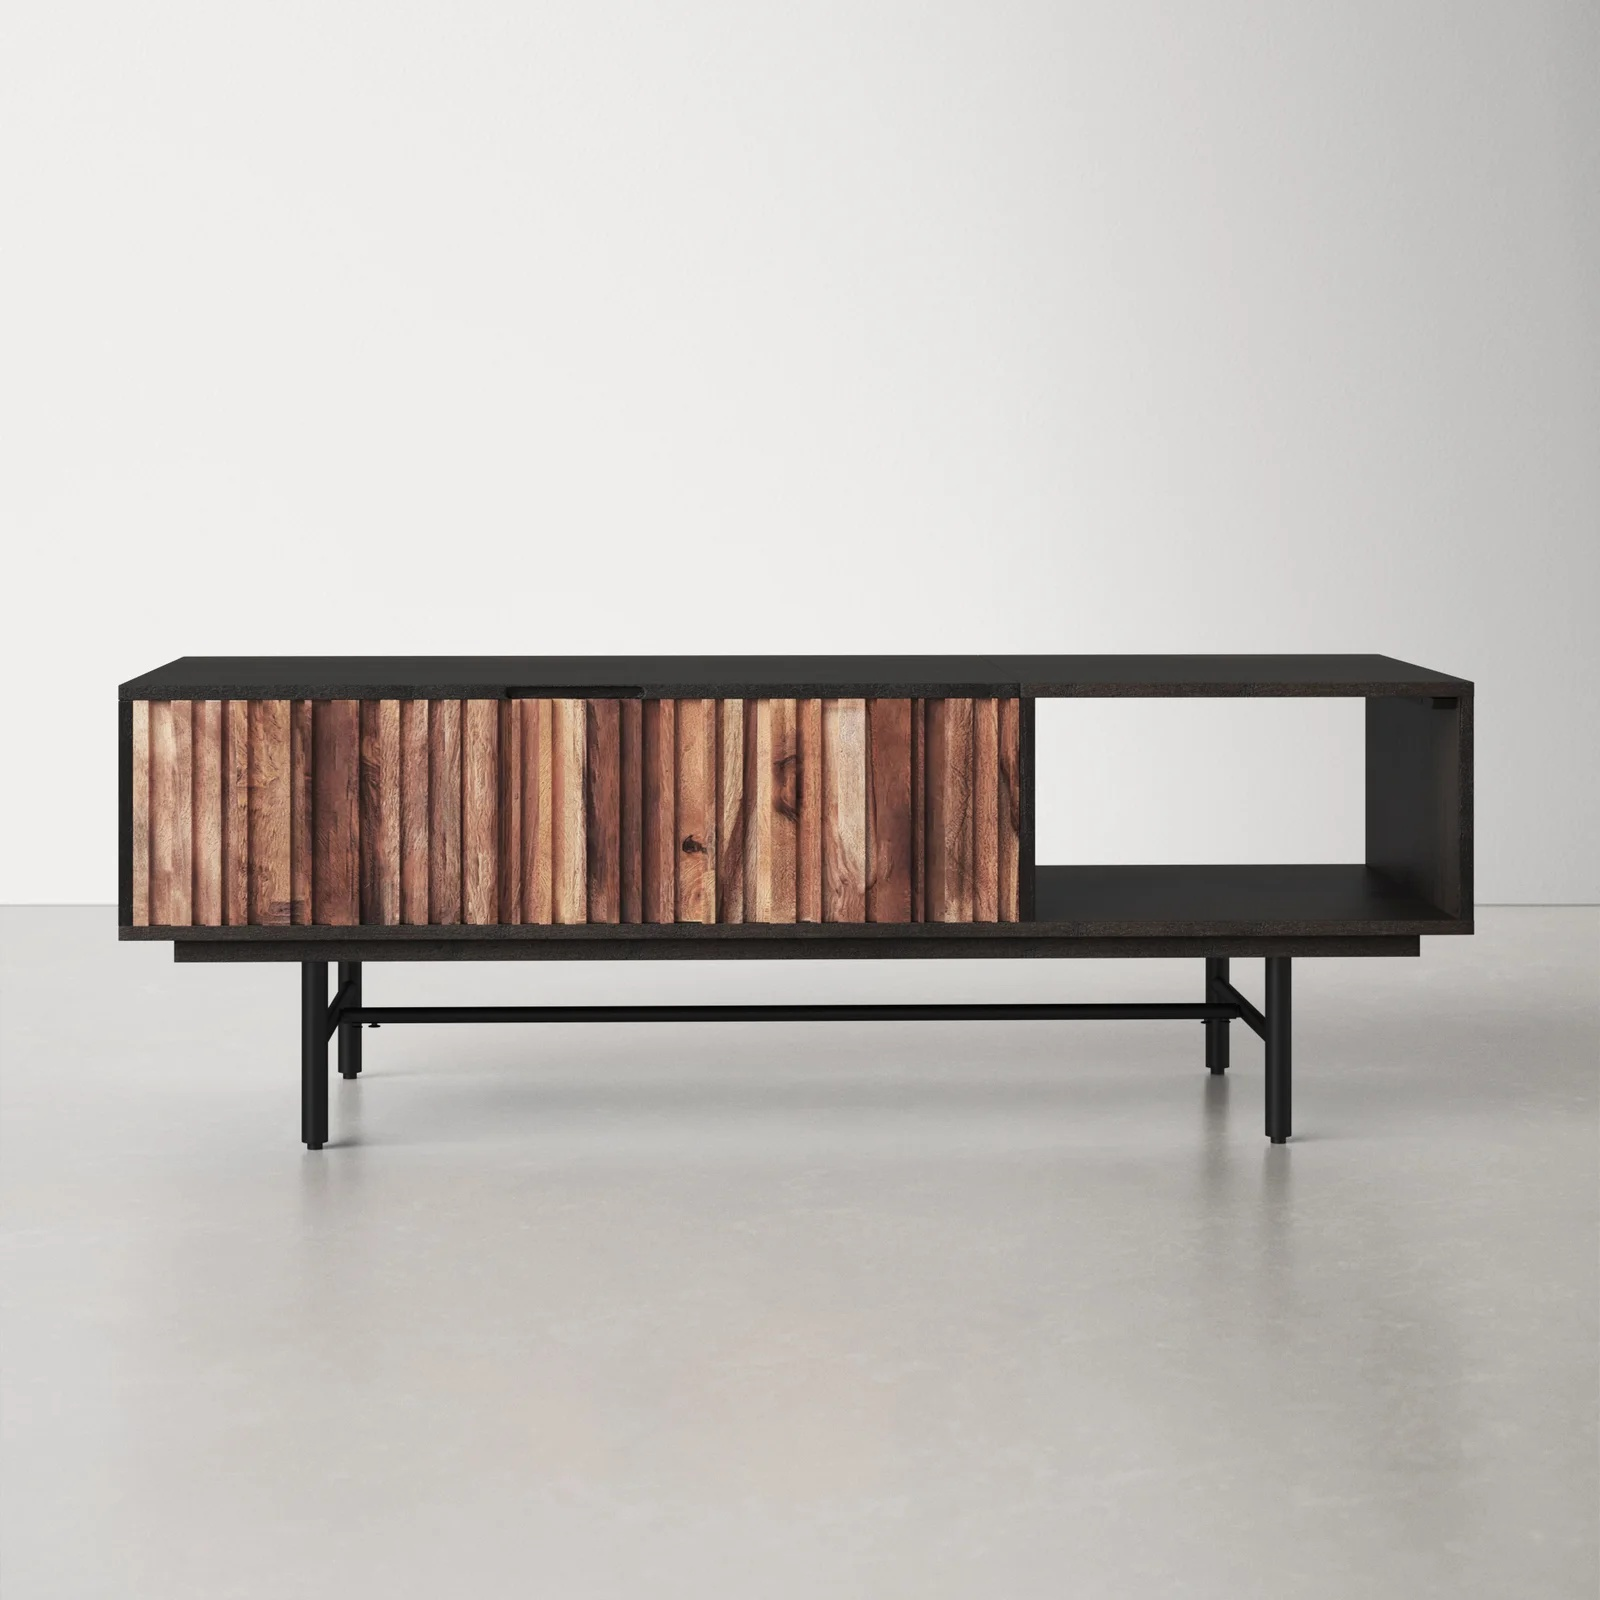obstacle: (120, 655, 1473, 1149)
